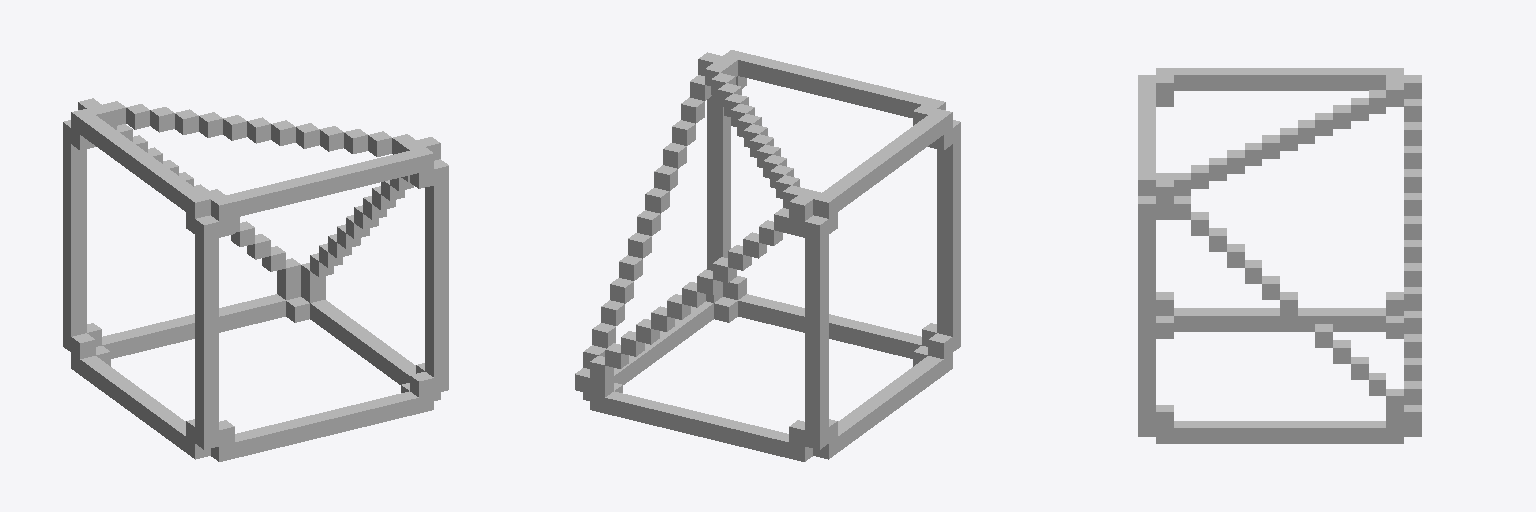
Rendered from frame-invcorner.obj.
3 renders of one model, left to right at view 1: azimuth 30°, elevation 25°; view 2: azimuth 150°, elevation 25°; view 3: azimuth 270°, elevation 25°, orthographic.
Bounding box in the file's own units: 16 × 16 × 16.